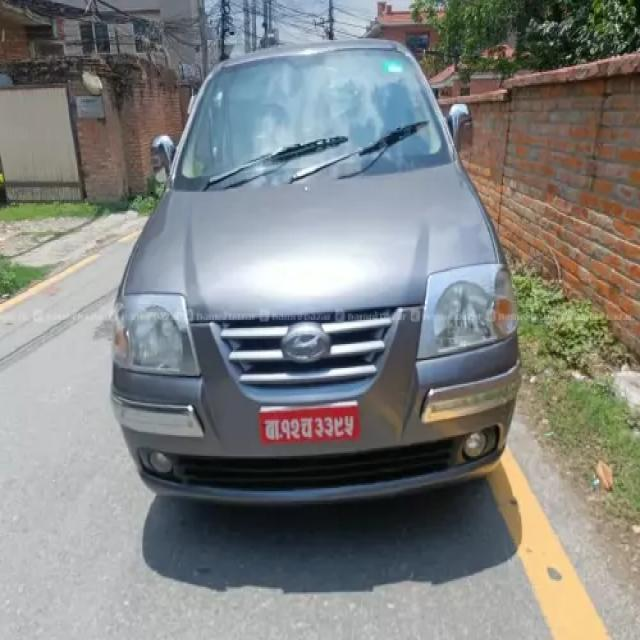License-plate: (256, 409, 363, 443)
